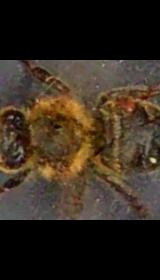varroa_mite: (114, 90, 136, 114)
